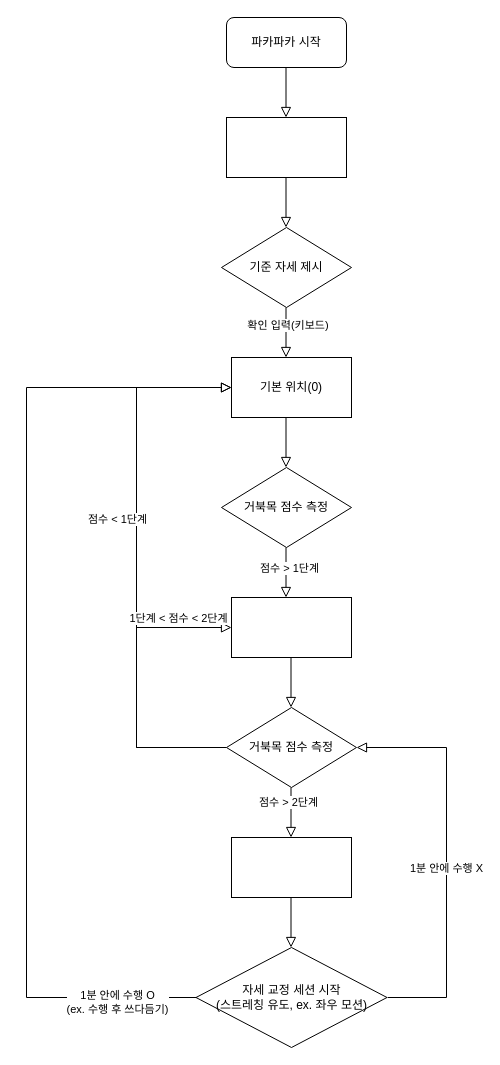
Some shapes in this 500 by 1065 pixel diagram are drawn without their labels. Here are the shapes that lost their labels. From the top down, the centre of each, then its label:
At (286,147): "최초 상태".
At (291,627): "고개 숙임 (90) 5초 딜레이".
At (291,867): "고개 숙임 (180) 파카파카 교정 알림".
